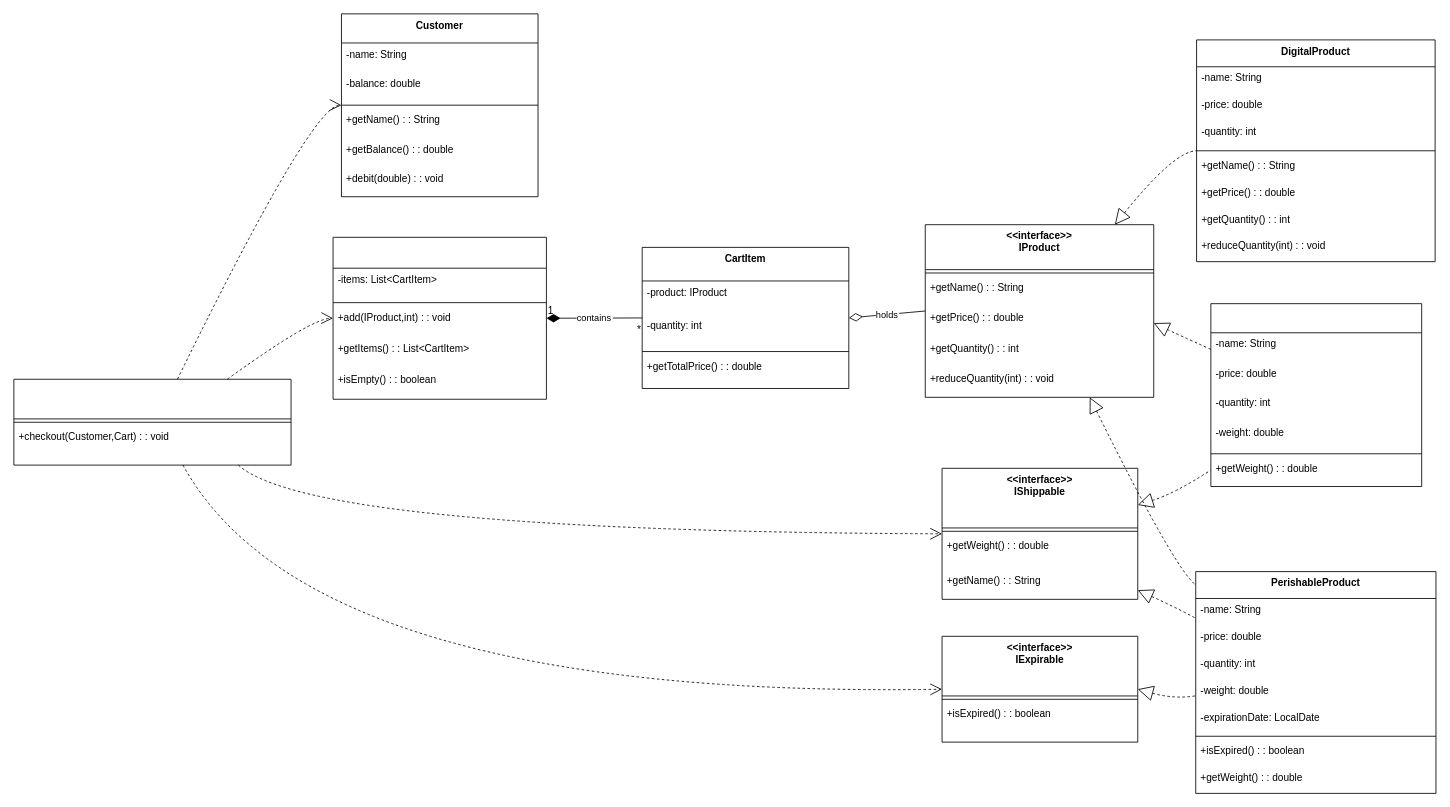
This 1450x807 diagram has some shape labels left out. The box of each missing label's shape, as (x1, y1, x2, y2) in pixels:
Cart: (332, 236, 546, 399)
CheckoutService: (13, 378, 291, 465)
PhysicalProduct: (1210, 303, 1422, 487)
